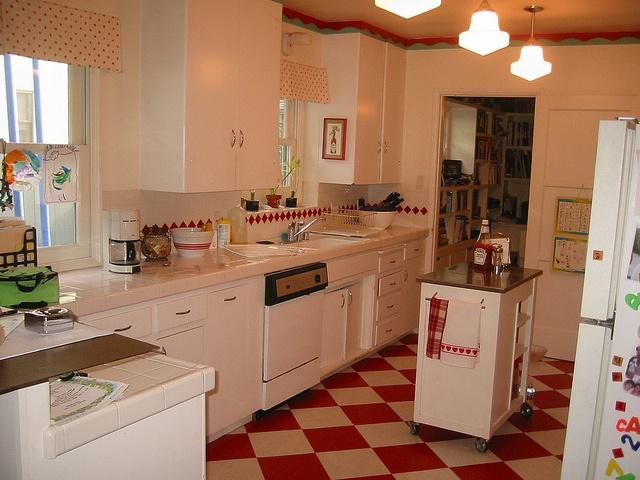Lemari: (180, 0, 281, 194), (350, 32, 406, 185)
